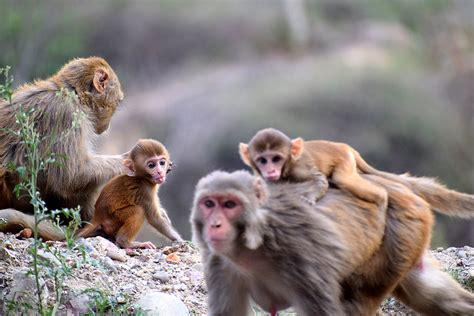monkey: (194, 172, 474, 315), (1, 57, 125, 240), (238, 128, 398, 207), (76, 139, 182, 249)
